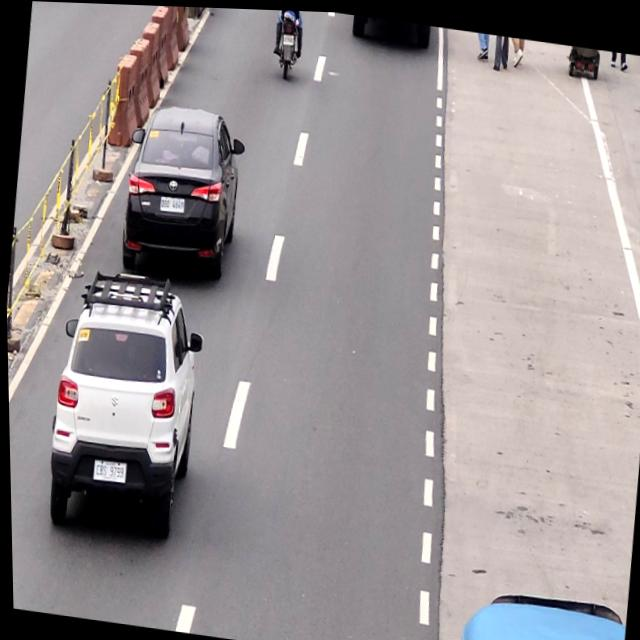Car: (46, 268, 205, 540), (120, 100, 244, 277)
Jeep: (445, 574, 624, 640)
License-Plate: (89, 457, 124, 482), (158, 195, 184, 211)
Motorcycle: (269, 8, 304, 76)
